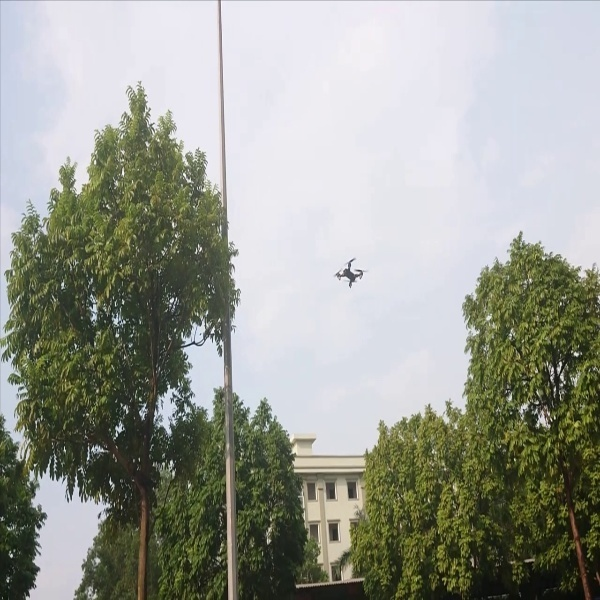drone: (330, 255, 373, 292)
